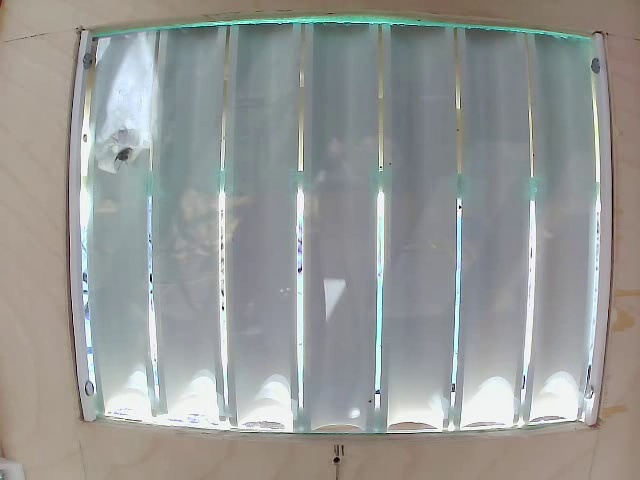bee: (108, 120, 154, 165)
